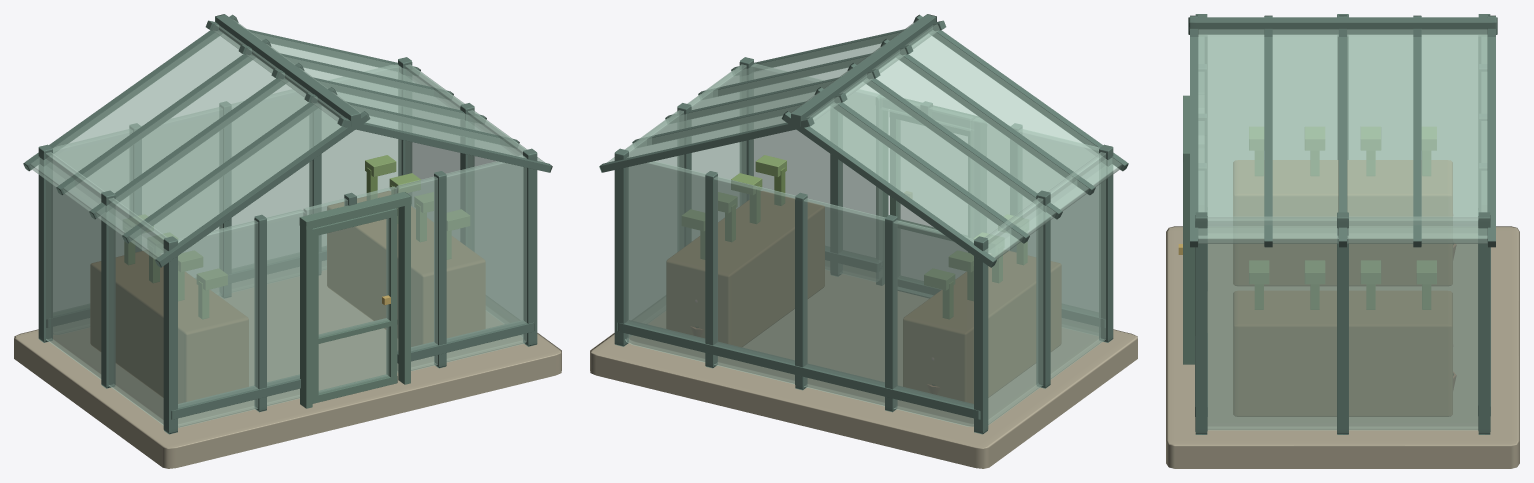
The model's file is greenhouse-0.glb.
3 views of the same model, side by side, from view 1: azimuth 30°, elevation 25°; view 2: azimuth 150°, elevation 25°; view 3: azimuth 270°, elevation 25° (orthographic). The views are drawn at different scales.
Visible parts, largest first — view 1: greenhouse-0-0, door-hinge, vegetable-crops; view 2: greenhouse-0-0, door-hinge, vegetable-crops; view 3: greenhouse-0-0, vegetable-crops.
Boxes of the visible parts, x1=… form: greenhouse-0-0: x1=14, y1=14, x2=561, y2=468; door-hinge: x1=312, y1=208, x2=397, y2=403; vegetable-crops: x1=124, y1=155, x2=469, y2=319; greenhouse-0-0: x1=590, y1=14, x2=1137, y2=468; door-hinge: x1=889, y1=112, x2=970, y2=294; vegetable-crops: x1=682, y1=155, x2=1027, y2=319; greenhouse-0-0: x1=1166, y1=14, x2=1519, y2=468; vegetable-crops: x1=1249, y1=127, x2=1436, y2=309.
Size of the model in its own units: 2.8 by 2.01 by 1.9.
